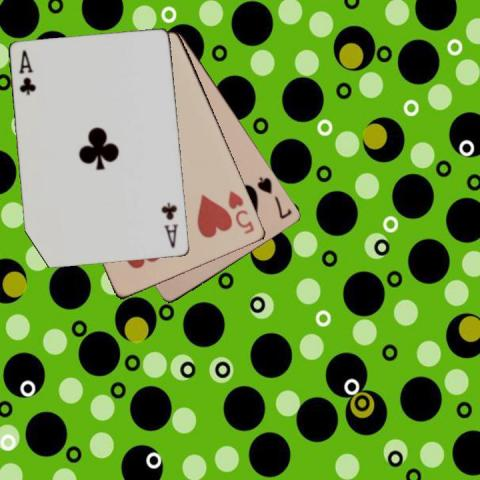5h: (225, 187, 256, 236)
7s: (254, 173, 293, 221)
Ac: (16, 47, 37, 97), (160, 200, 180, 250)
